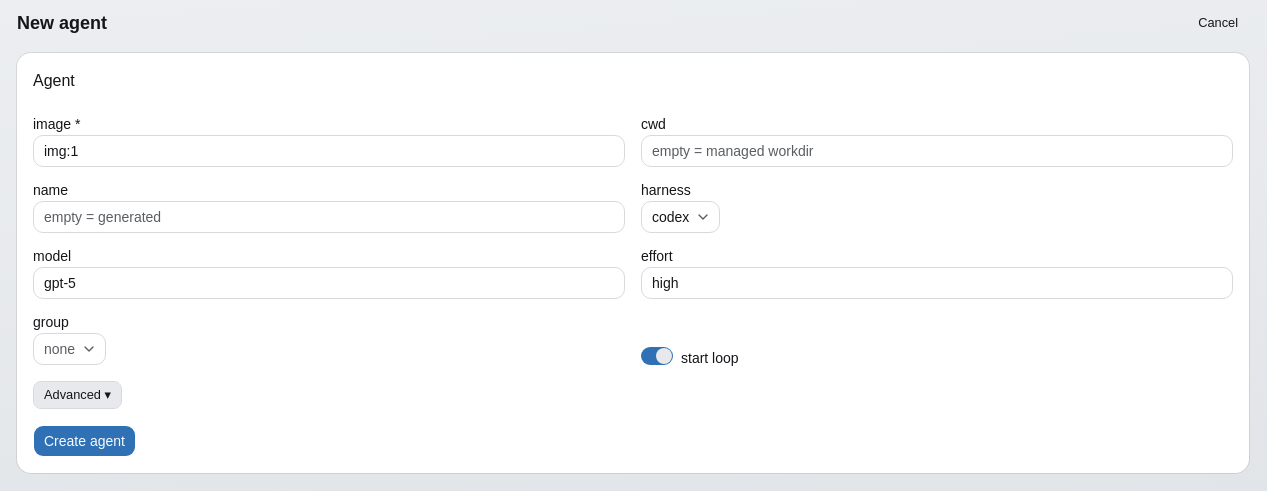
Test: waits for a newly selected image manifest before it enables creation
Expected: the dropdown showing "gpt-5" is shown, x1=33 y1=267 x2=625 y2=299
Focus the field labelled "image": (329, 151) x1=33 y1=135 x2=625 y2=167
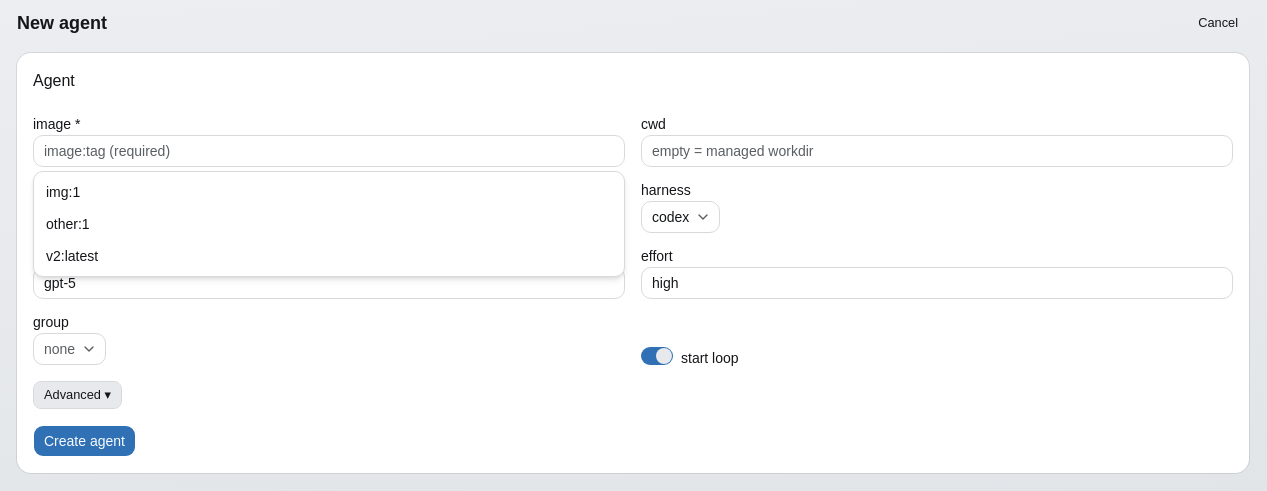
Click the option "other:1": (68, 224) x1=38 y1=208 x2=620 y2=240
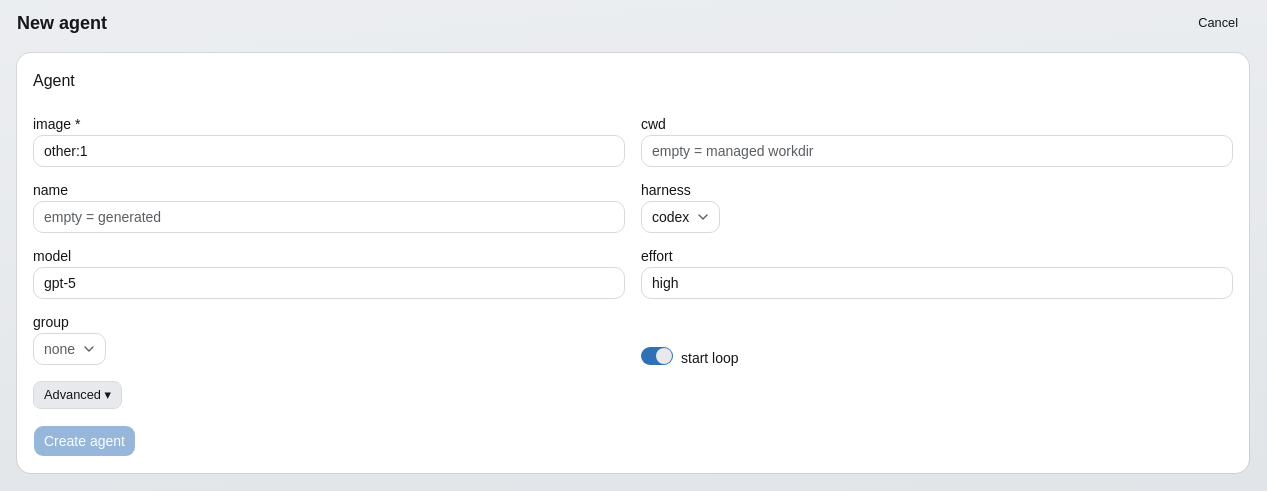
Result: the button "Create agent" is disabled at x1=33 y1=425 x2=136 y2=457
